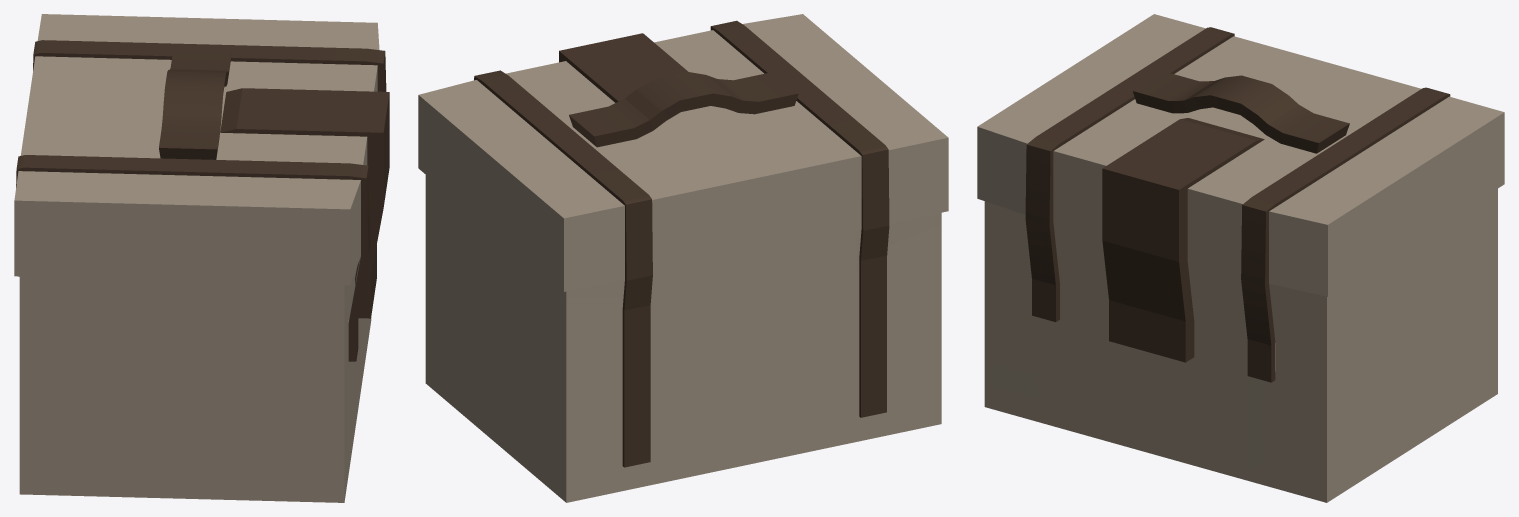
File: smallLuggage_lp.fbx
The picture shows the model from 3 angles, left to right: view 1: azimuth 30°, elevation 25°; view 2: azimuth 150°, elevation 25°; view 3: azimuth 270°, elevation 25°; orthographic projection. The views are drawn at different scales.
Parts seen in each view (by area): view 1: smallLuggage_lp; view 2: smallLuggage_lp; view 3: smallLuggage_lp.
Part boxes in pixels (left/top/right/bottom): smallLuggage_lp: left=14, top=14, right=389, bottom=502; smallLuggage_lp: left=418, top=14, right=948, bottom=502; smallLuggage_lp: left=977, top=14, right=1504, bottom=502.
Size of the model in its own units: 0.4077 by 0.2803 by 0.4308.
